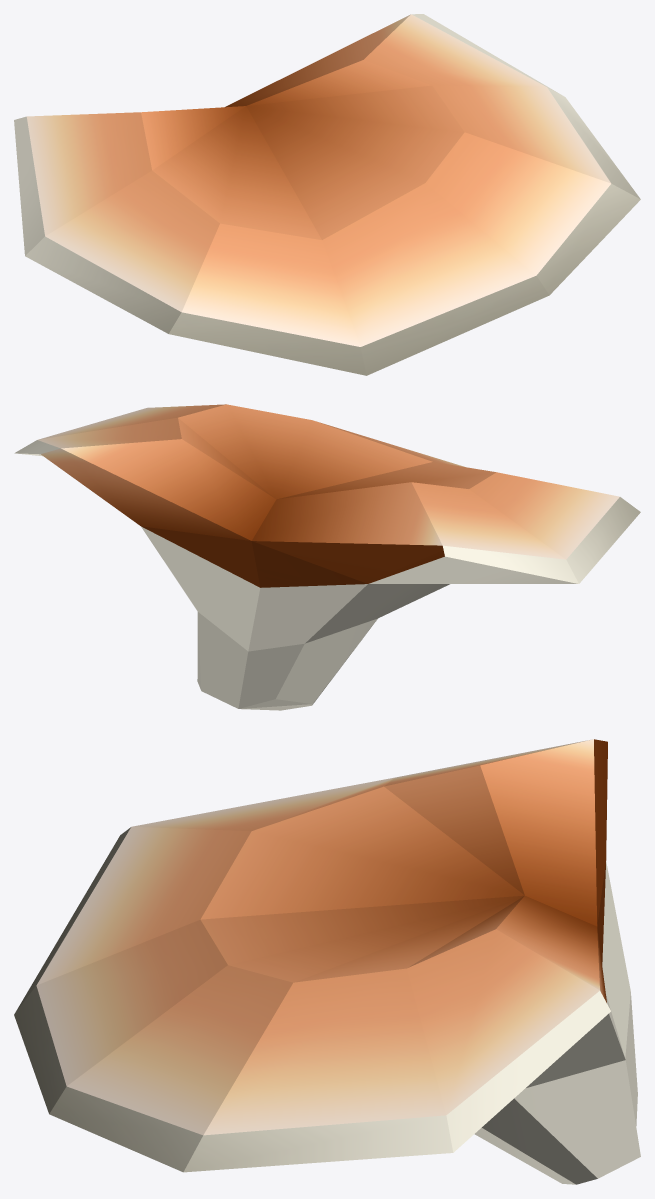
File: MushroomTree-04.FBX
3 renders of one model, top to bottom at view 1: azimuth 30°, elevation 25°; view 2: azimuth 150°, elevation 25°; view 3: azimuth 270°, elevation 25°, orthographic. The views are drawn at different scales.
Visible parts, largest first — view 1: MushroomTree-04; view 2: MushroomTree-04; view 3: MushroomTree-04.
Boxes of the visible parts, left/top/right/bottom form: MushroomTree-04: left=14, top=14, right=640, bottom=375; MushroomTree-04: left=14, top=404, right=640, bottom=710; MushroomTree-04: left=14, top=739, right=640, bottom=1184.
Bounding box in the file's own units: 81.51 × 33.26 × 57.57.
Materials: 1 (1 with a texture image).
